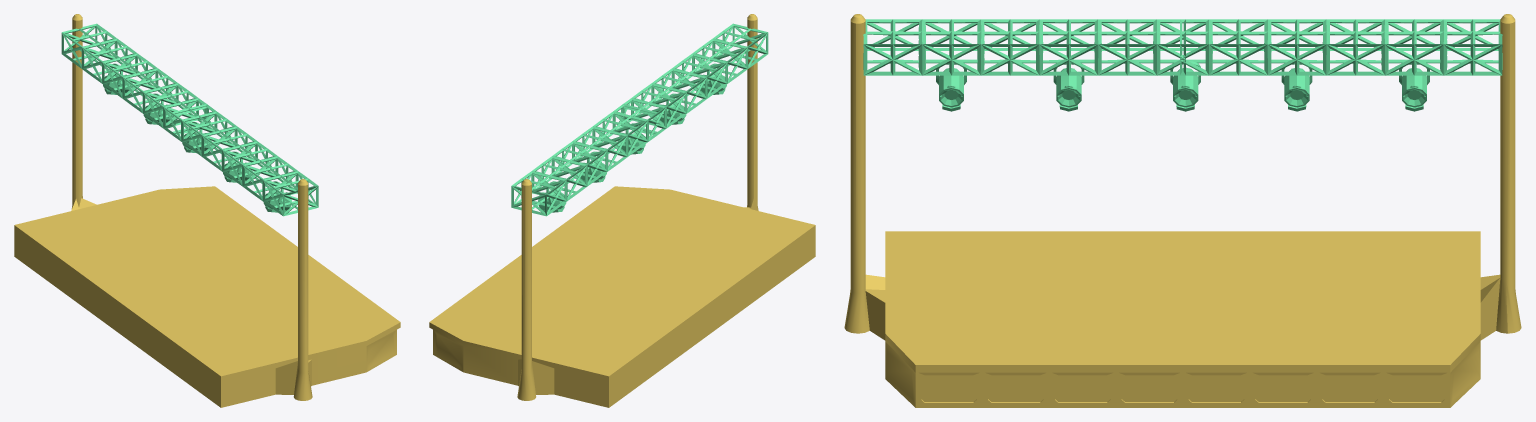
The model's file is podium.fbx.
3 renders of one model, left to right at view 1: azimuth 30°, elevation 25°; view 2: azimuth 150°, elevation 25°; view 3: azimuth 270°, elevation 25°, orthographic. The views are drawn at different scales.
Visible parts, largest first — view 1: Cube; view 2: Cube; view 3: Cube.
Part boxes in pixels (box(x1,y1,x2,y2)): Cube: box(14, 14, 400, 407); Cube: box(429, 14, 815, 407); Cube: box(844, 14, 1521, 407).
Size of the model in its own units: 3.76 by 4.1 by 8.05.
